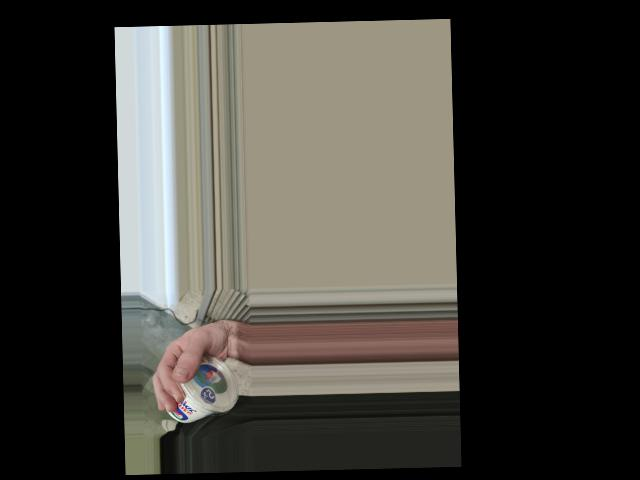cotage: (161, 355, 242, 423)
